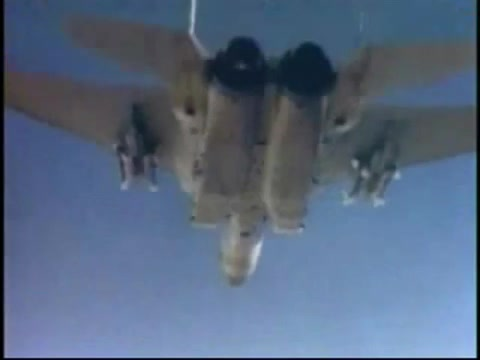aeroplane: (5, 1, 477, 290)
